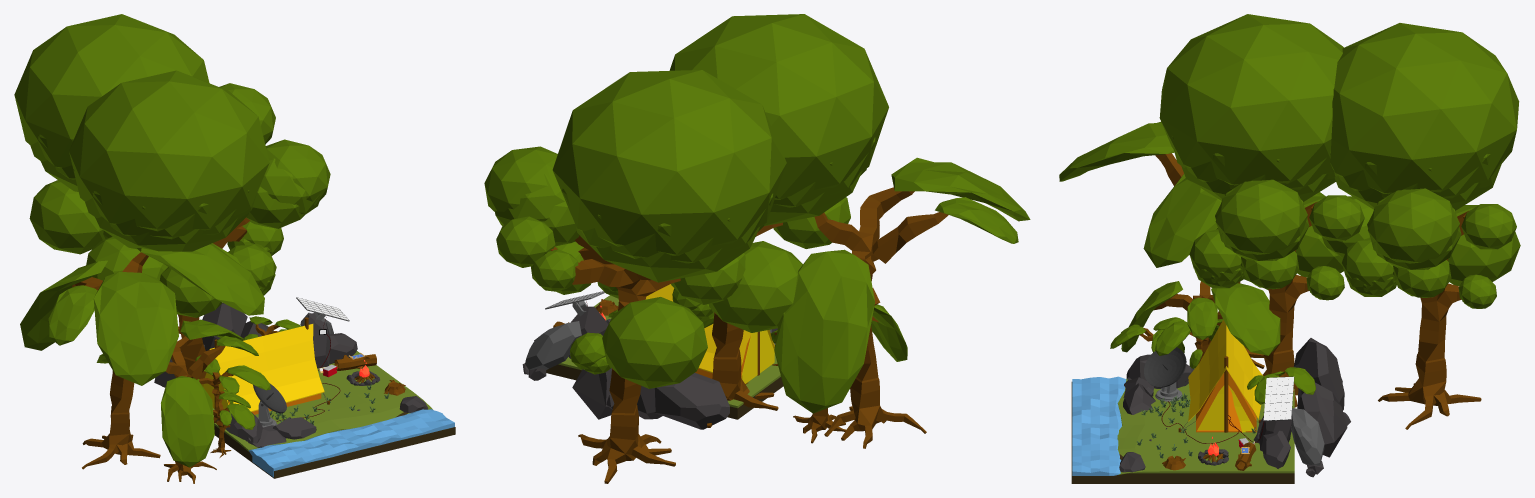
The model's file is camp_export9.glb.
The picture shows the model from 3 angles, left to right: view 1: azimuth 30°, elevation 25°; view 2: azimuth 150°, elevation 25°; view 3: azimuth 270°, elevation 25°; orthographic projection. The views are drawn at different scales.
Parts seen in each view (by area): view 1: Big tree leaves, Big tree leaves.001, Small Tree 2.003, Small Tree 2.002, Rock2.007, Tent-main.001, Rock2.003, Rock2.005, Rock_1.004, Rock2.009, Rock2.001, Small Tree 2.001 (+4 smaller); view 2: Big tree leaves.001, Big tree leaves, Small Tree 2.003, Big Tree.001, Rock2.009, Big Tree, Small Tree 2.002, Rock.001, Tent-main.002, Tent-main.001, Rock2.007, Rock2.001 (+1 smaller); view 3: Big tree leaves.001, Big tree leaves, Small Tree 2.003, Rock2.007, Small Tree 2.002, Rock2.003, Big Tree.001, Rock2.009, Tent-main.001, Big Tree, Rock2.005, Rock_1.004 (+11 smaller).
Boxes of the visible parts, x1,y1,x2,y2 form: Big tree leaves: (69, 70, 330, 317); Big tree leaves.001: (14, 14, 275, 254); Small Tree 2.003: (20, 243, 264, 469); Small Tree 2.002: (96, 319, 258, 483); Rock2.007: (213, 351, 432, 451); Tent-main.001: (201, 324, 324, 411); Rock2.003: (248, 409, 454, 477); Rock2.005: (214, 427, 455, 478); Rock_1.004: (216, 411, 316, 447); Rock2.009: (154, 303, 273, 387); Rock2.001: (304, 313, 357, 368); Small Tree 2.001: (210, 392, 255, 457); Big tree leaves.001: (484, 70, 786, 388); Big tree leaves: (669, 14, 888, 332); Small Tree 2.003: (774, 157, 1030, 448); Big Tree.001: (550, 235, 680, 483); Rock2.009: (522, 363, 729, 429); Big Tree: (707, 222, 782, 427); Small Tree 2.002: (699, 304, 907, 443); Rock.001: (525, 321, 581, 369); Tent-main.002: (741, 330, 774, 383); Tent-main.001: (645, 284, 774, 373); Rock2.007: (558, 295, 780, 408); Rock2.001: (534, 306, 608, 358); Big tree leaves.001: (1322, 23, 1520, 308); Big tree leaves: (1159, 14, 1364, 300); Small Tree 2.003: (1059, 122, 1325, 368); Rock2.007: (1117, 379, 1294, 474); Small Tree 2.002: (1121, 276, 1280, 355); Rock2.003: (1072, 376, 1126, 475); Big Tree.001: (1378, 210, 1481, 429); Rock2.009: (1293, 338, 1350, 477); Tent-main.001: (1188, 319, 1262, 421); Big Tree: (1262, 202, 1316, 407); Rock2.005: (1071, 476, 1294, 483); Rock_1.004: (1123, 354, 1194, 414).
Size of the model in its own units: 15.94 by 15.6 by 16.55.
